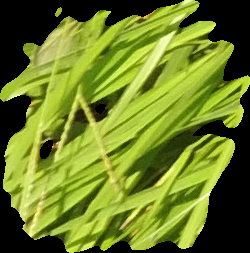grass: (1, 1, 249, 251)
